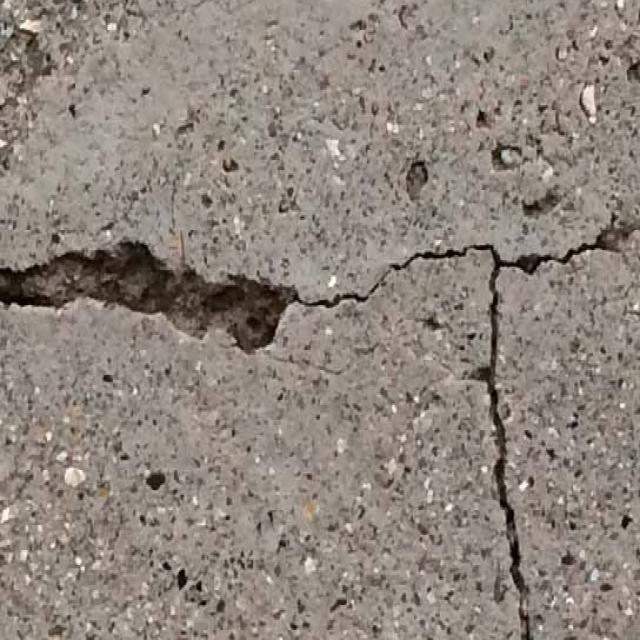Radial: (377, 202, 640, 640)
Transverse: (0, 237, 371, 354)
